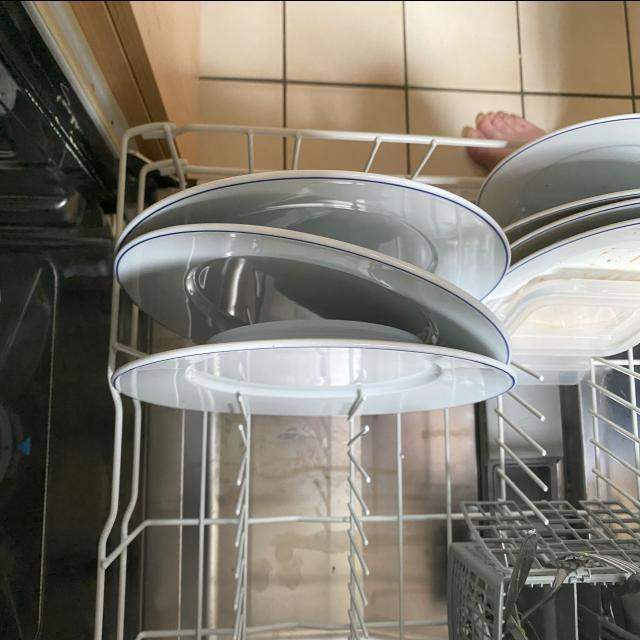empty_slot: (120, 423, 442, 640)
